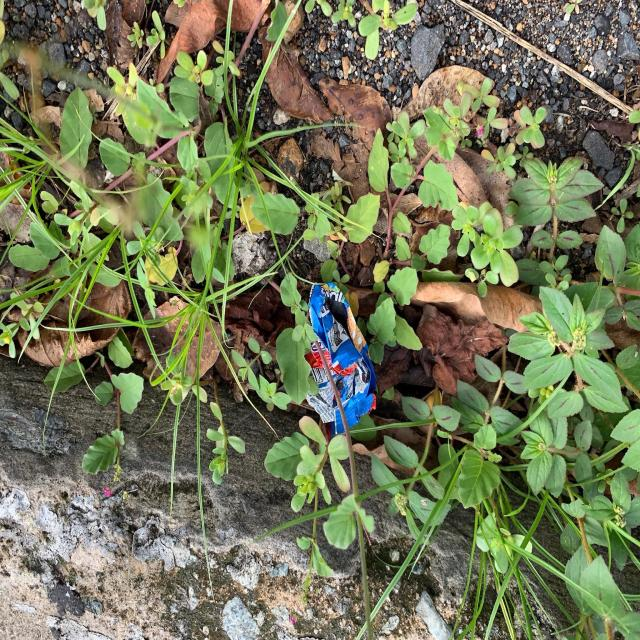litter: (306, 281, 377, 433)
